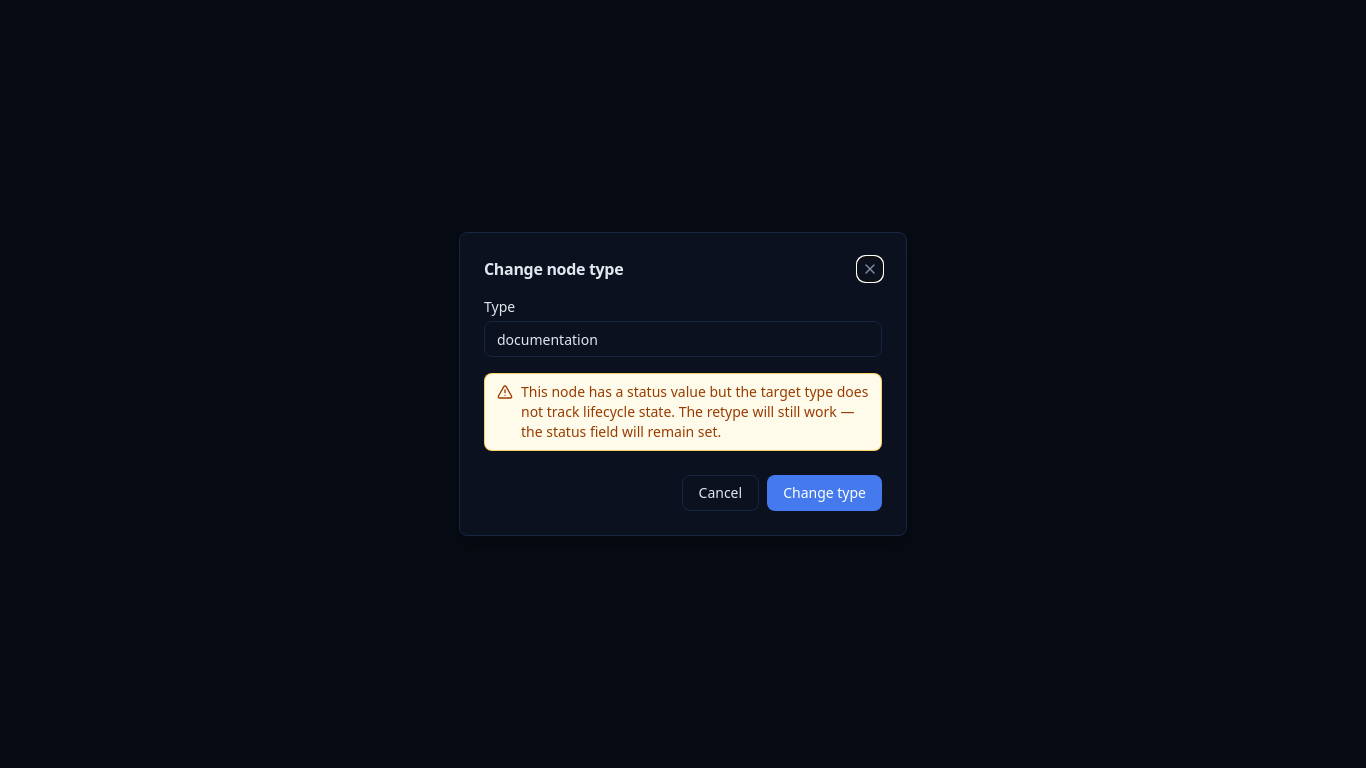
Test: RetypeNodeDialog — soft warning heuristic › T5: no warning when target type IS in allowlist (task)
Step 1. Replace the text in the field labelled "Type" with "task" → (683, 339), box [484, 321, 882, 357]
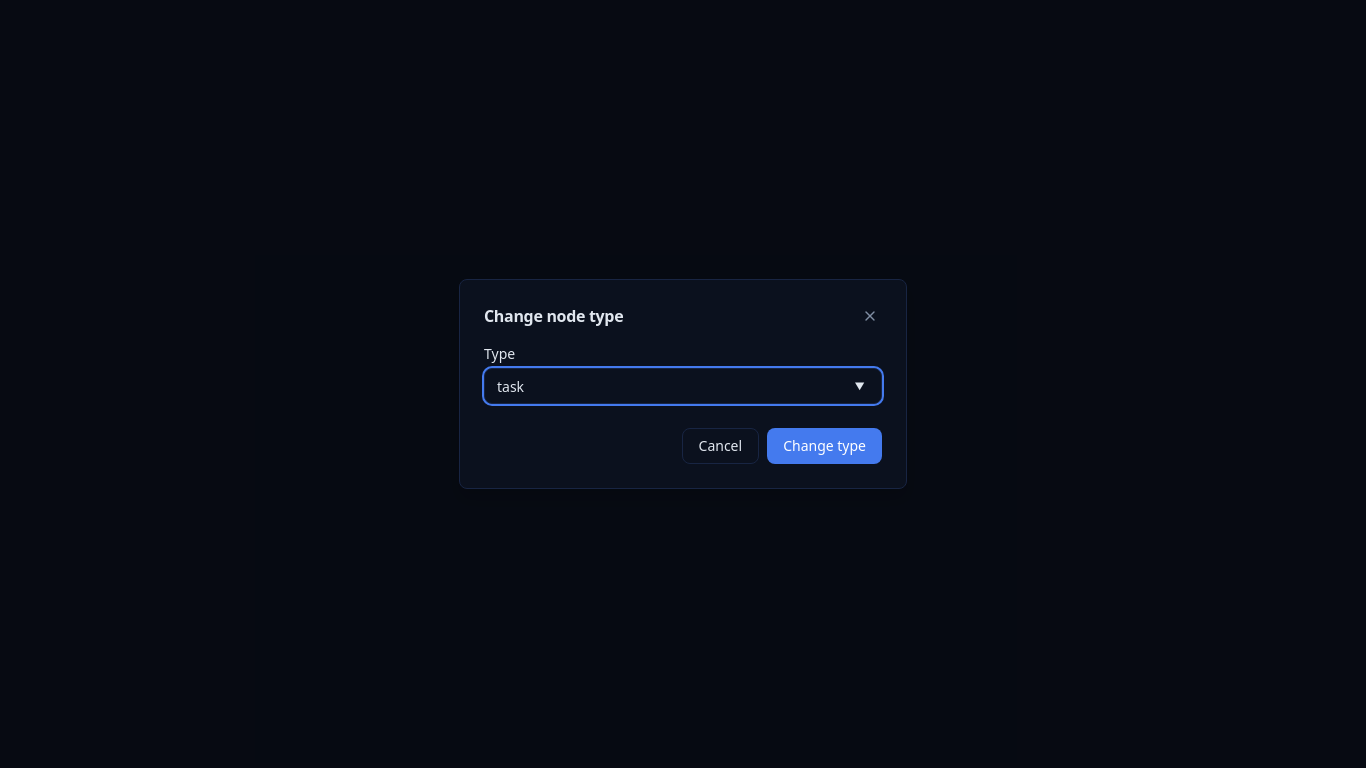
Expected: the message is gone
